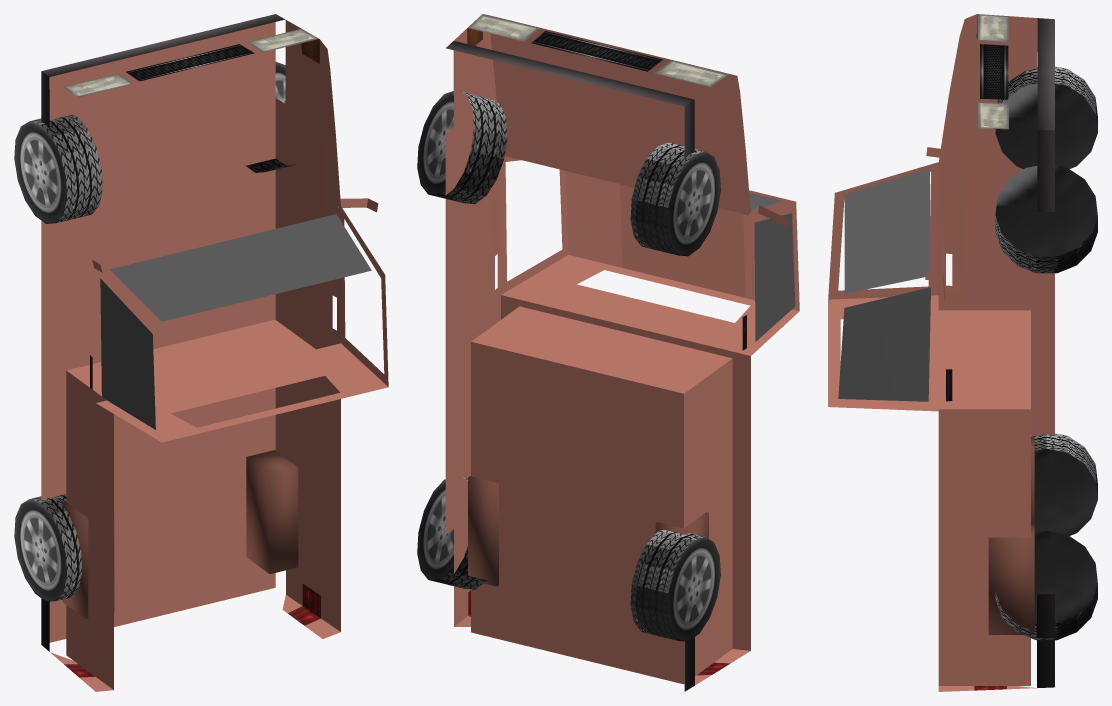
Rendered from pickup.gltf.
3 renders of one model, left to right at view 1: azimuth 30°, elevation 25°; view 2: azimuth 150°, elevation 25°; view 3: azimuth 270°, elevation 25°, orthographic. The views are drawn at different scales.
Visible parts, largest first — view 1: Body1, WheelRL013, Box001, WheelRL014, Box002, WheelRL011; view 2: Body1, WheelRL014, WheelRL013, WheelRL011, WheelRL012, Box001, Box002; view 3: Body1, WheelRL011, WheelRL013, WheelRL014, WheelRL012, Box001.
Boxes of the visible parts, box(x1,y1,x2,y2) form: Body1: box(41, 14, 388, 691); WheelRL013: box(14, 114, 102, 223); Box001: box(246, 450, 298, 573); WheelRL014: box(14, 494, 82, 601); Box002: box(62, 501, 114, 618); WheelRL011: box(246, 62, 295, 172); Body1: box(445, 14, 799, 691); WheelRL014: box(630, 529, 720, 641); WheelRL013: box(630, 142, 720, 256); WheelRL011: box(417, 91, 507, 204); WheelRL012: box(417, 477, 486, 589); Box001: box(468, 476, 498, 586); Box002: box(655, 512, 708, 538); Body1: box(828, 14, 1054, 691); WheelRL011: box(995, 165, 1097, 273); WheelRL013: box(995, 66, 1097, 168); WheelRL014: box(1031, 433, 1097, 535); WheelRL012: box(995, 531, 1097, 640); Box001: box(988, 524, 1034, 634).
Size of the model in its own units: 0.686 by 1.24 by 0.5349.
7 materials, 4 textured.
